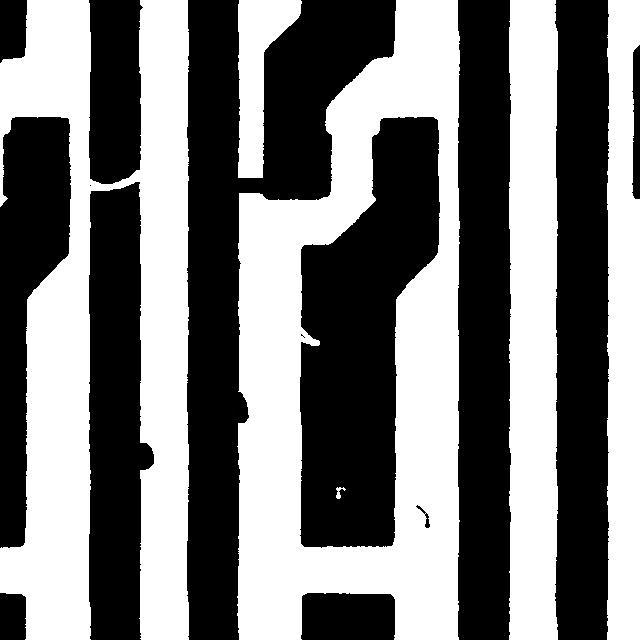copper: (406, 495, 439, 537)
mousebite: (283, 317, 329, 355)
open: (75, 160, 150, 201)
pin-hole: (326, 477, 355, 508)
short: (217, 168, 279, 203)
spur: (211, 373, 258, 432), (126, 433, 163, 479)
